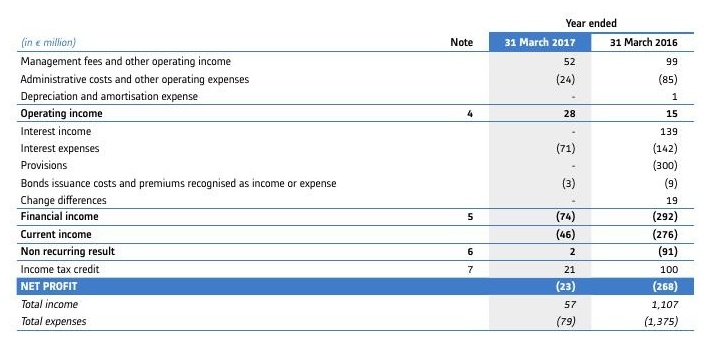table: (0, 0, 705, 345)
